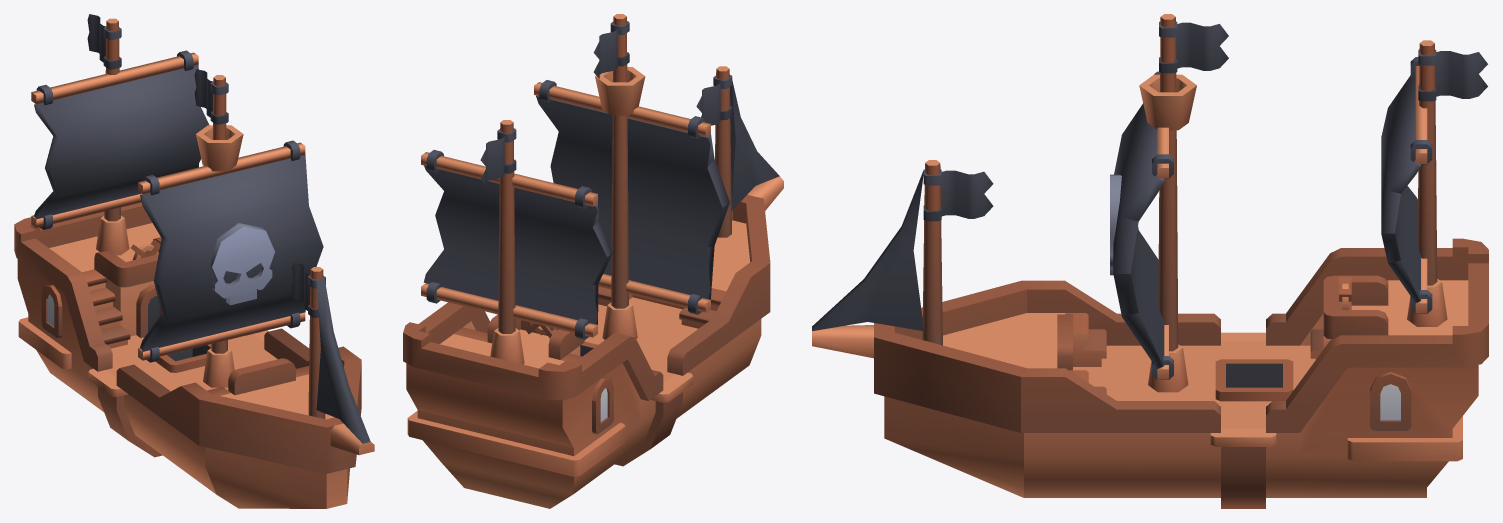
The model's file is k-pirate-ship-pirate-large.glb.
The picture shows the model from 3 angles, left to right: view 1: azimuth 30°, elevation 25°; view 2: azimuth 150°, elevation 25°; view 3: azimuth 270°, elevation 25°; orthographic projection. The views are drawn at different scales.
Visible parts, largest first — view 1: ship-pirate-large, sail-a, sail-b, flag-c (×3); view 2: ship-pirate-large, sail-a, sail-b, flag-c (×3); view 3: ship-pirate-large, sail-a, sail-b, flag-c (×3).
Part boxes in pixels (x1=…): ship-pirate-large: x1=14, y1=18, x2=374, y2=508; sail-a: x1=138, y1=140, x2=323, y2=362; sail-b: x1=31, y1=50, x2=209, y2=229; flag-c (×3): x1=87, y1=14, x2=325, y2=317; ship-pirate-large: x1=403, y1=14, x2=783, y2=508; sail-a: x1=534, y1=80, x2=729, y2=314; sail-b: x1=421, y1=150, x2=612, y2=339; flag-c (×3): x1=480, y1=21, x2=732, y2=186; ship-pirate-large: x1=812, y1=14, x2=1488, y2=508; sail-a: x1=1110, y1=71, x2=1173, y2=379; sail-b: x1=1381, y1=57, x2=1432, y2=313; flag-c (×3): x1=923, y1=21, x2=1487, y2=221.
Bounding box in the file's own units: 4.8 × 9.96 × 13.1.
1 material, 1 textured.
